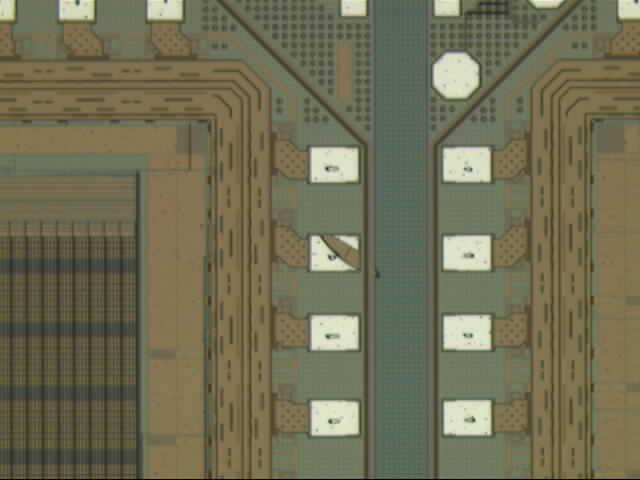BLOCK ETCH: (316, 227, 387, 283)
